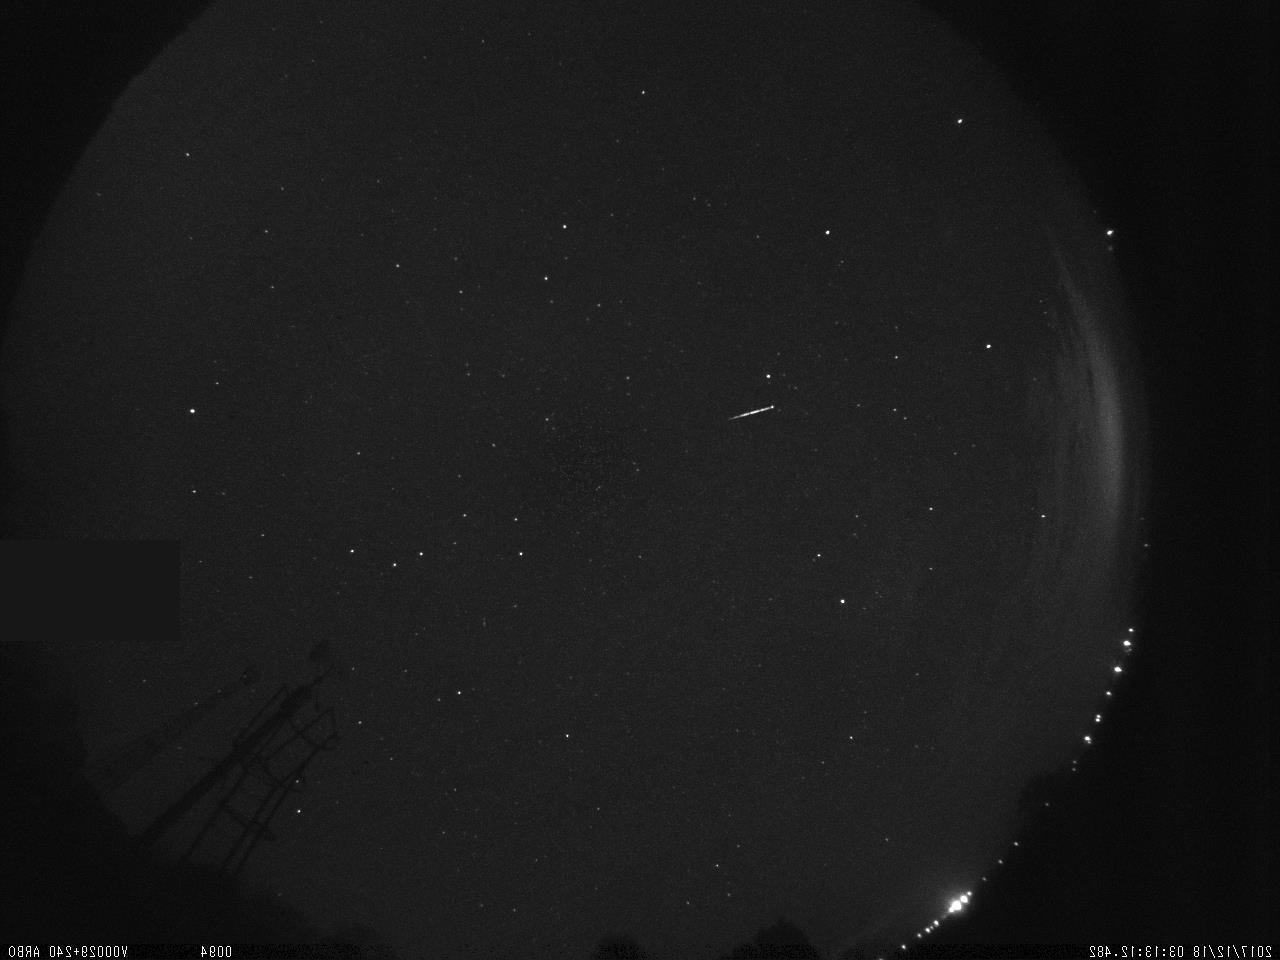meteor: (717, 391, 779, 431)
